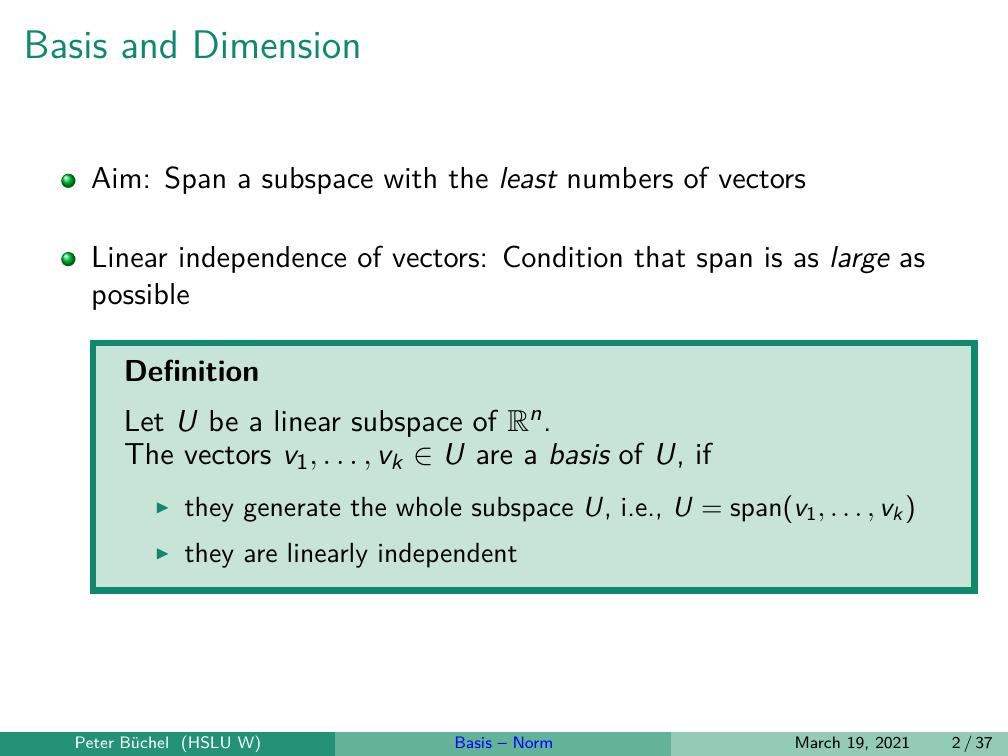Title: (21, 25, 371, 72)
